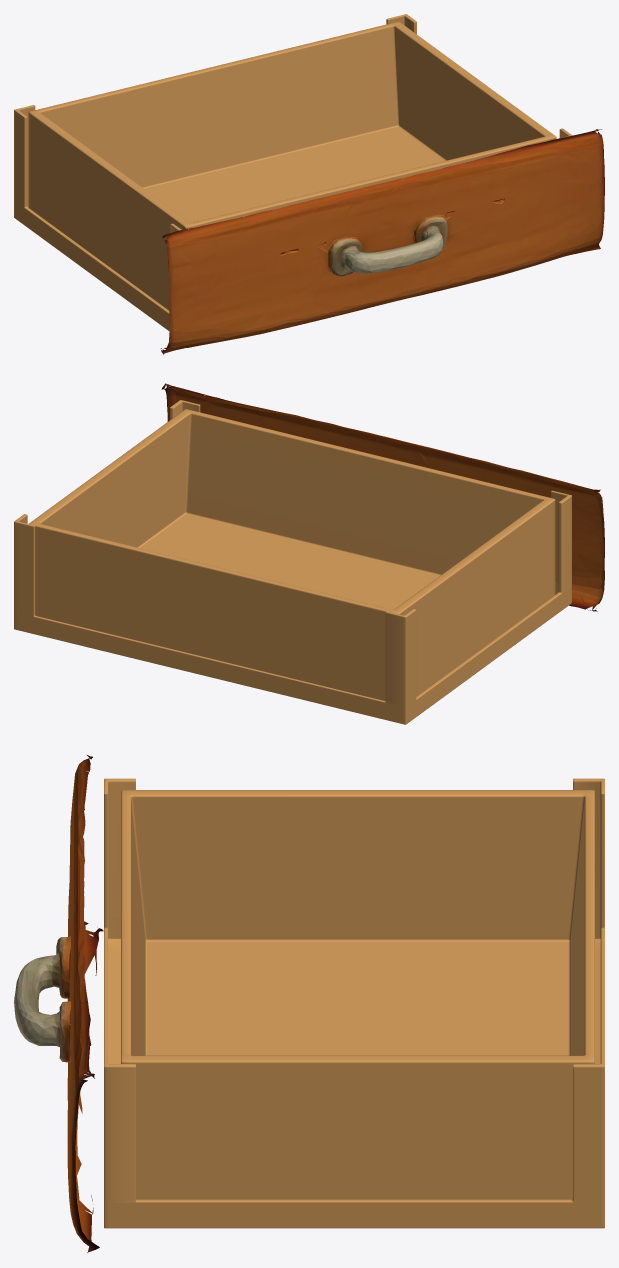
The model's file is drawer_middle.glb.
The picture shows the model from 3 angles, top to bottom: view 1: azimuth 30°, elevation 25°; view 2: azimuth 150°, elevation 25°; view 3: azimuth 270°, elevation 25°; orthographic projection. The views are drawn at different scales.
Parts seen in each view (by area): view 1: prefab_drawer_body_2, source_front_cap_0; view 2: prefab_drawer_body_2, source_front_cap_0; view 3: prefab_drawer_body_2, source_front_cap_0.
Boxes of the visible parts, <box> form: prefab_drawer_body_2: <box>14,14,572,331</box>; source_front_cap_0: <box>161,129,604,354</box>; prefab_drawer_body_2: <box>14,400,571,724</box>; source_front_cap_0: <box>161,383,604,611</box>; prefab_drawer_body_2: <box>104,778,604,1228</box>; source_front_cap_0: <box>14,755,103,1252</box>.
Bounding box in the file's own units: 0.4862 × 0.1279 × 0.3798.
Materials: 2 (1 with a texture image).
